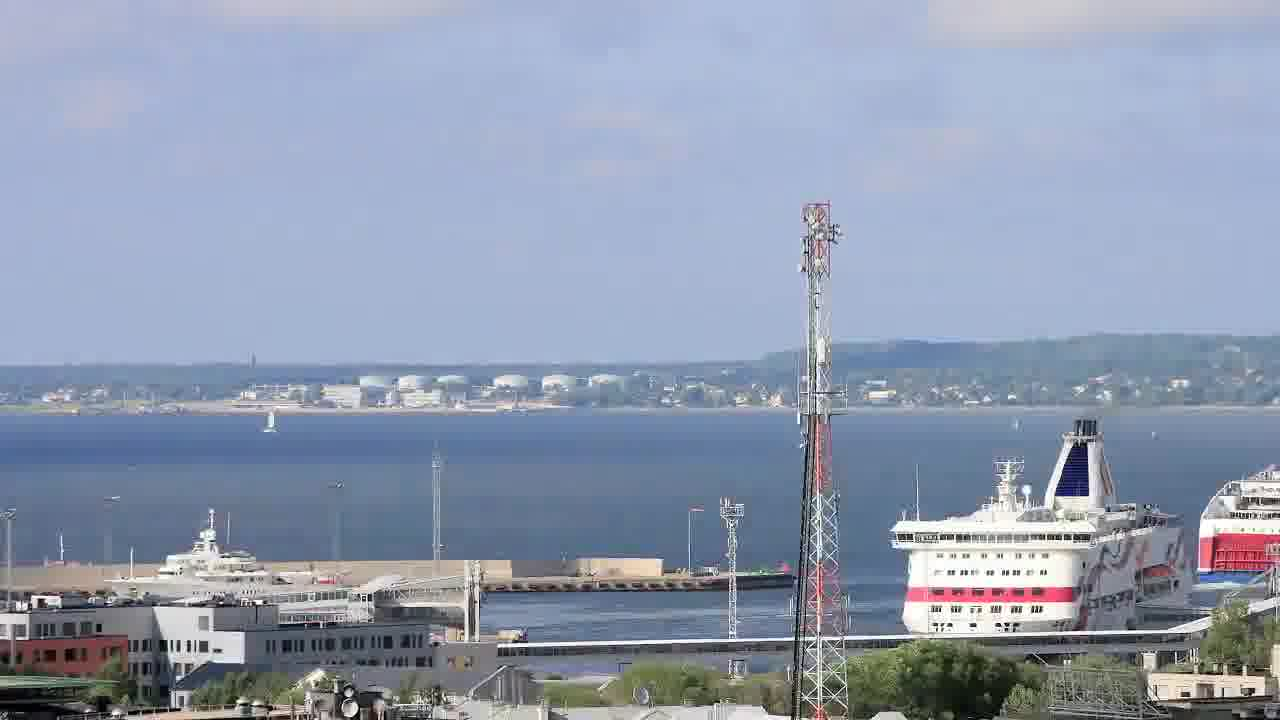type-2: (250, 395, 310, 450)
type-3: (868, 415, 1225, 638), (89, 518, 402, 620), (1191, 397, 1279, 603)
